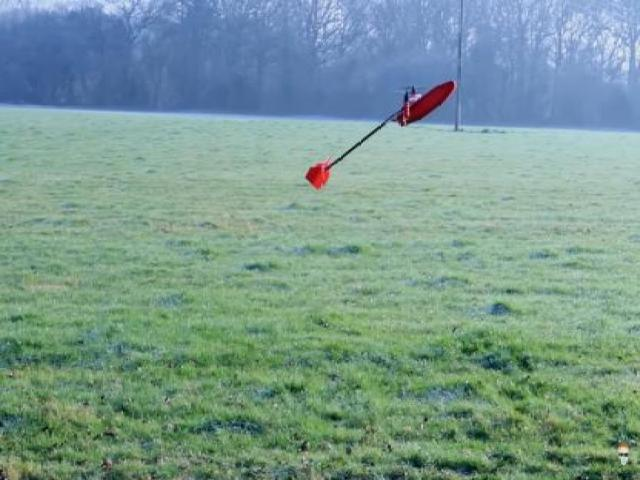uav: (302, 77, 458, 194)
